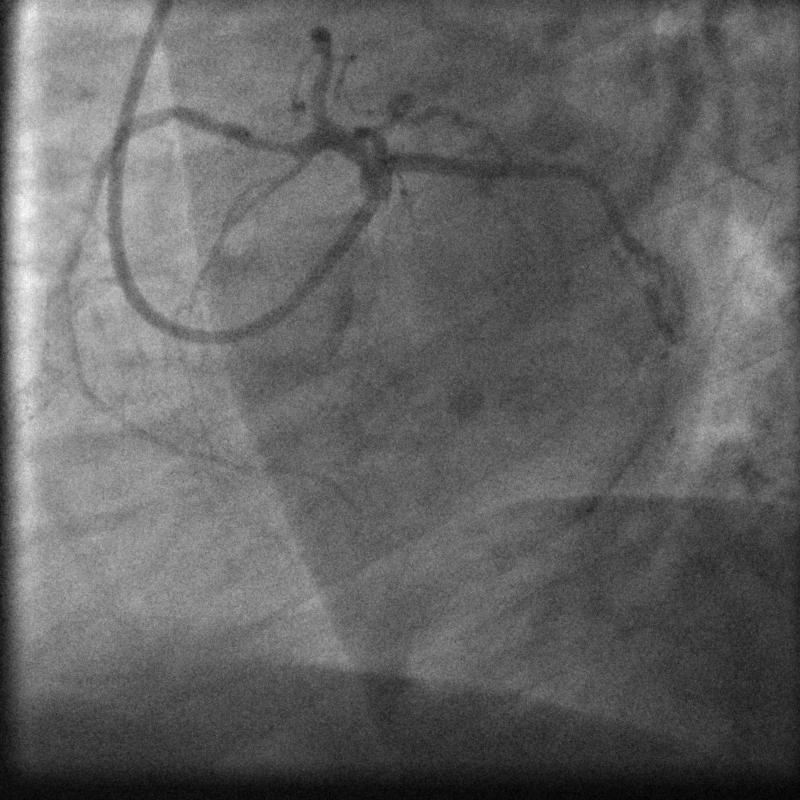Stenosis: (239, 123, 302, 169)
